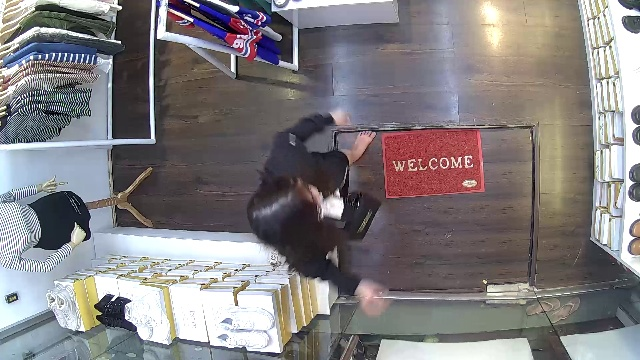topviewhead: (238, 173, 334, 258)
